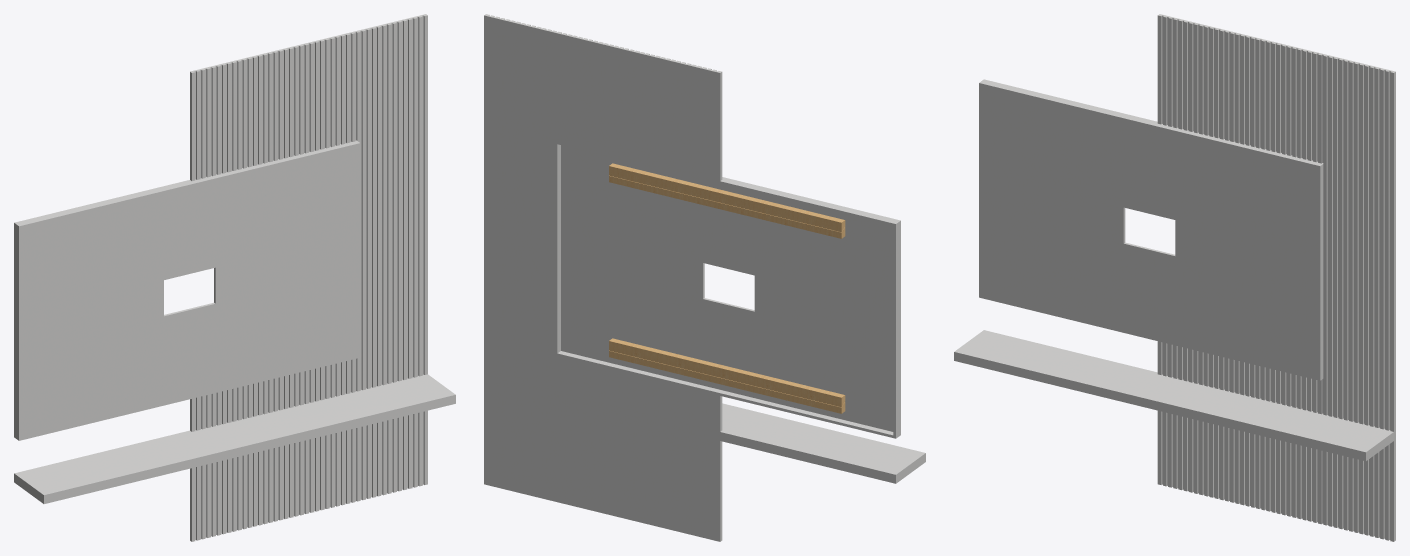
File: 008_Panel-de-TV.glb
3 views of the same model, side by side, from view 1: azimuth 30°, elevation 25°; view 2: azimuth 150°, elevation 25°; view 3: azimuth 330°, elevation 25° (orthographic).
Visible parts, largest first — view 1: root; view 2: root; view 3: root.
Part boxes in pixels (bbox=[...]): root: bbox=[14, 14, 455, 541]; root: bbox=[484, 14, 925, 541]; root: bbox=[954, 14, 1395, 541].
Bounding box in the file's own units: 2.39 × 2.6 × 0.3015.
2 materials, 2 textured.
